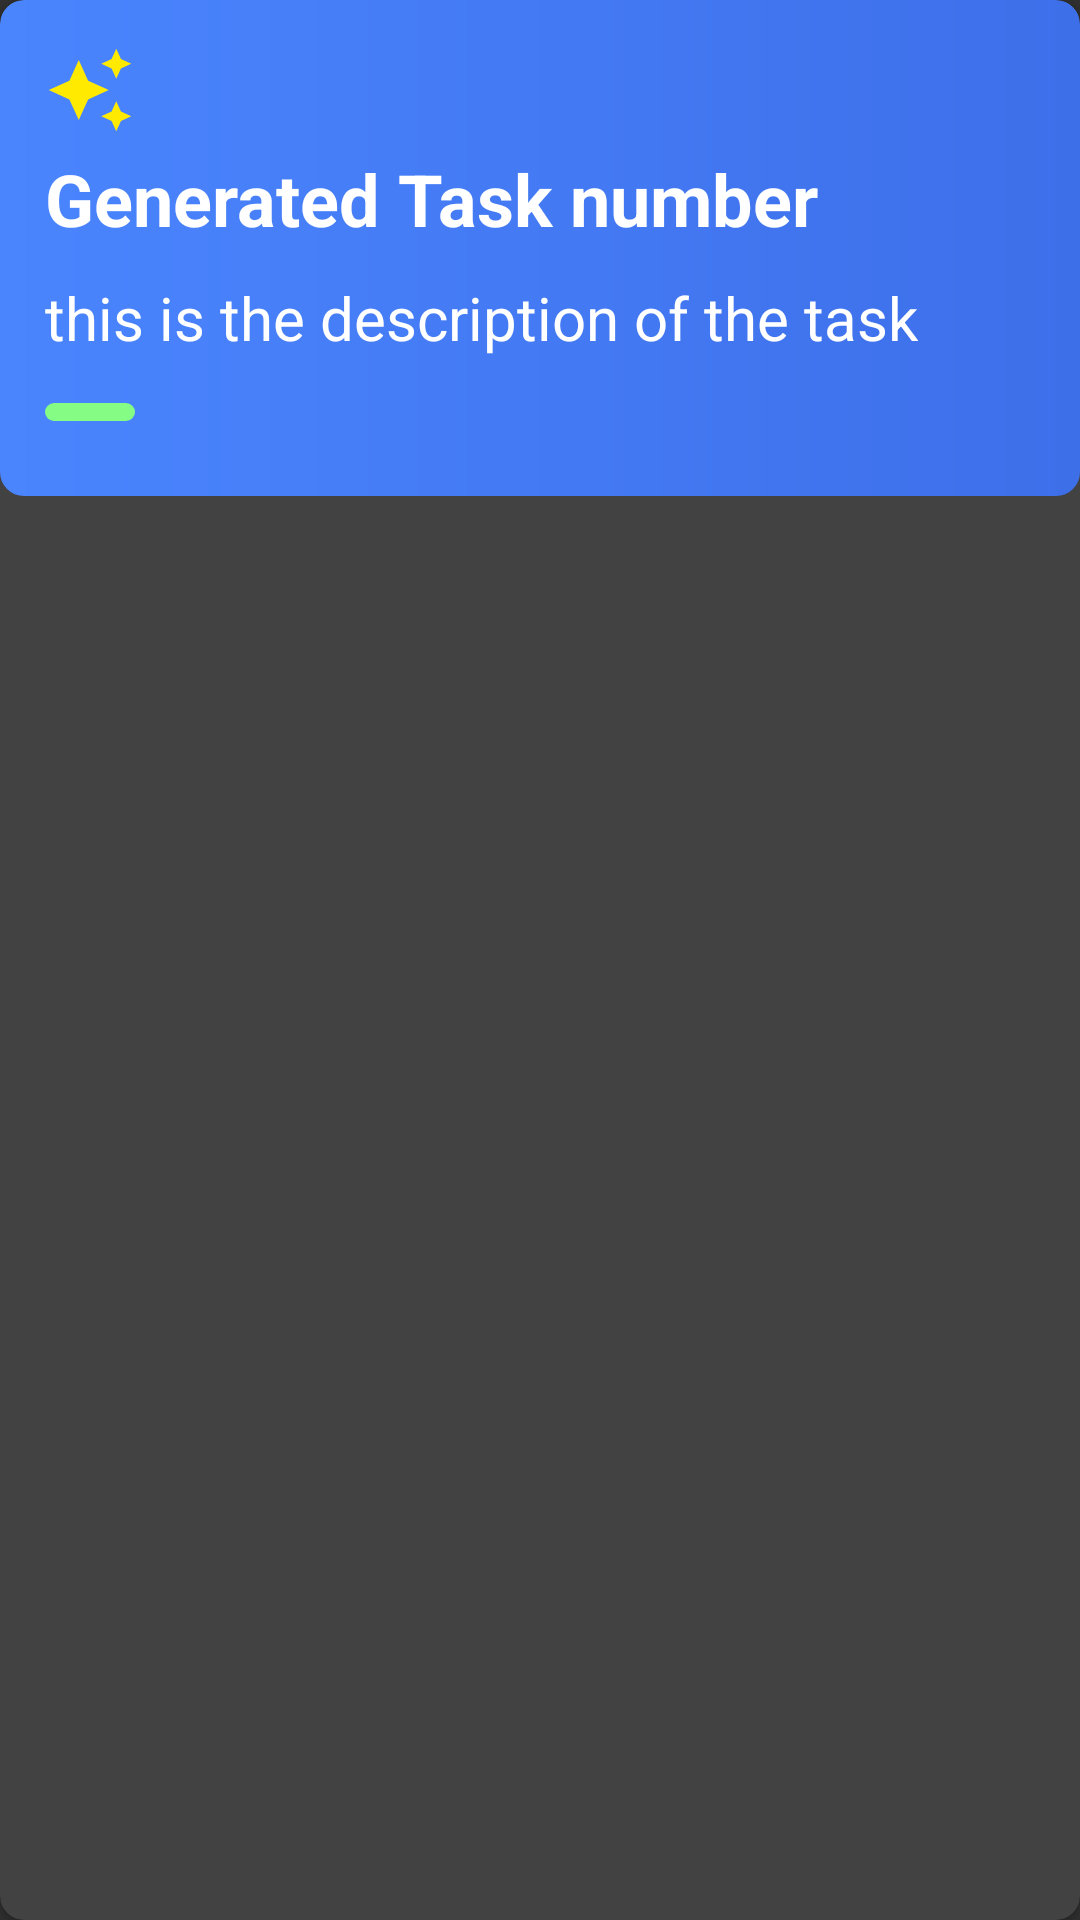

Icon bounding boxes for this 1080px x 1920px phone screenshot, format (x1,y1,x2,y2):
auto awesome: (49,49,131,131)
